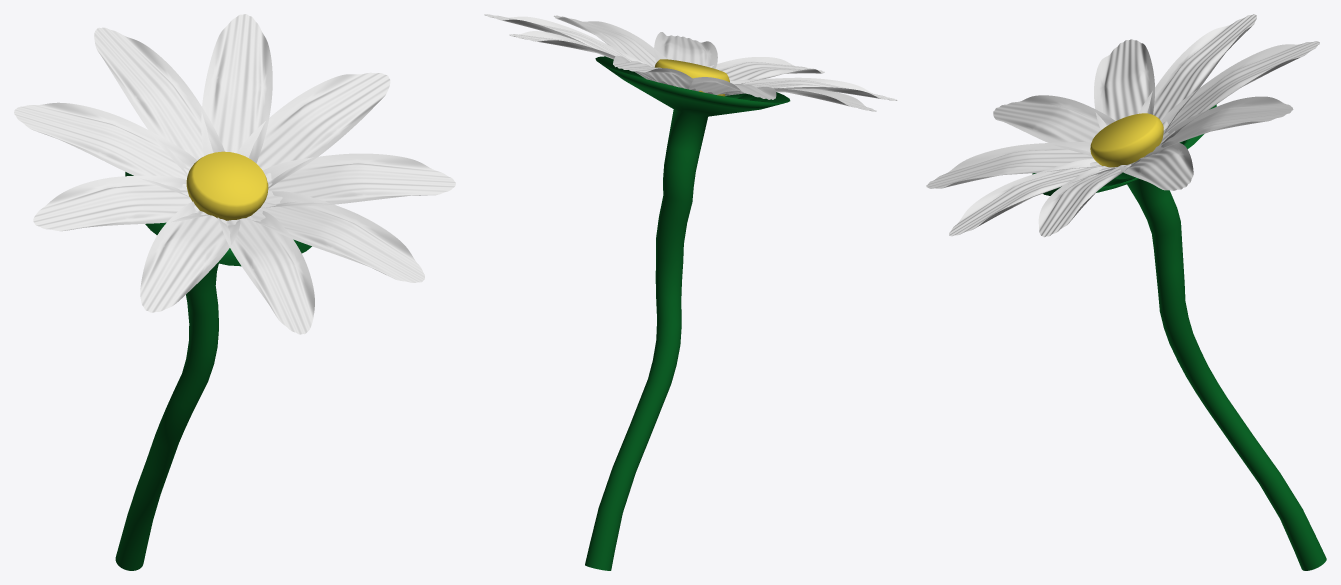
The model's file is papatya küçük.fbx.
The picture shows the model from 3 angles, left to right: view 1: azimuth 30°, elevation 25°; view 2: azimuth 150°, elevation 25°; view 3: azimuth 270°, elevation 25°; orthographic projection. The views are drawn at different scales.
Visible parts, largest first — view 1: Circle.009, Circle.008; view 2: Circle.008, Circle.009; view 3: Circle.009, Circle.008.
Boxes of the visible parts, x1,y1,x2,y2 form: Circle.009: [14, 14, 455, 334]; Circle.008: [115, 151, 311, 570]; Circle.008: [585, 56, 790, 570]; Circle.009: [484, 14, 897, 111]; Circle.009: [926, 14, 1319, 237]; Circle.008: [1032, 104, 1326, 570].
Size of the model in its own units: 64.27 by 86.71 by 61.28.
